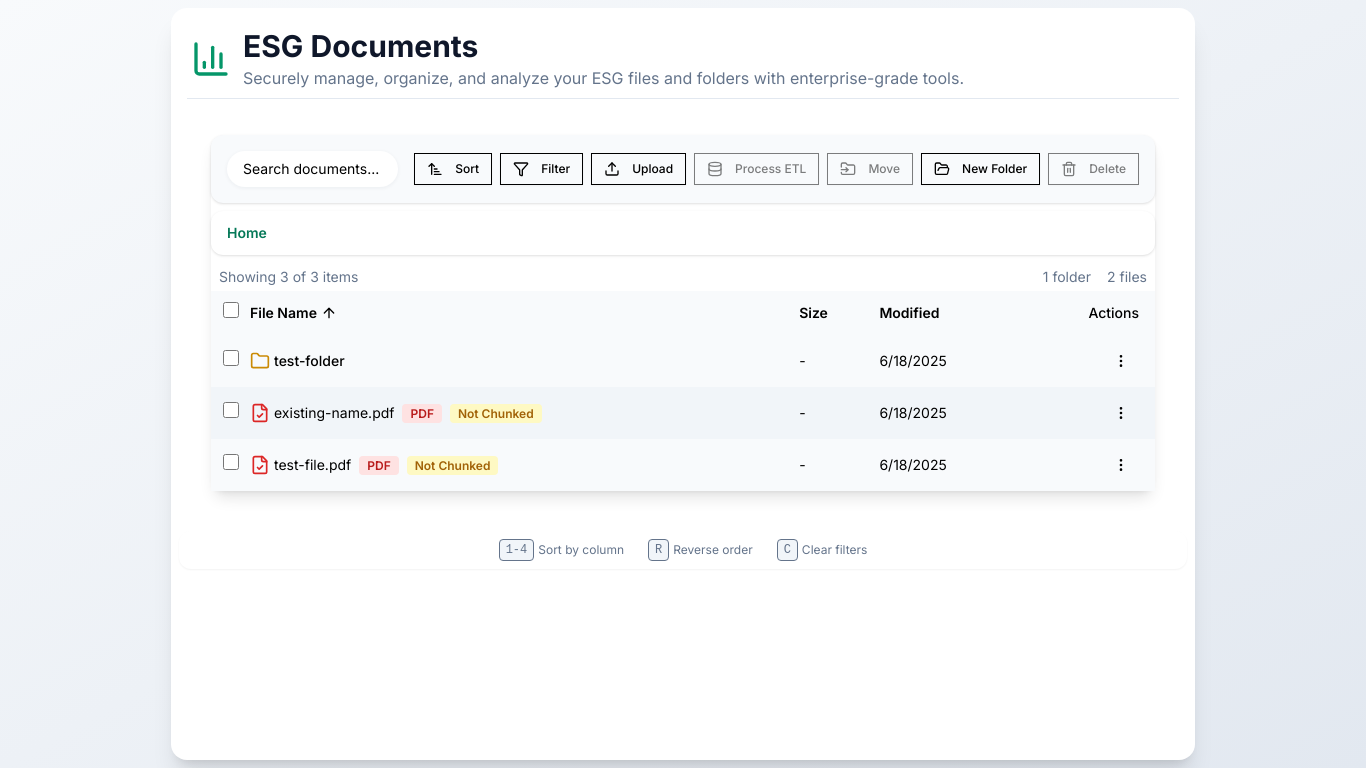
it: Rename File/Folder Functionality › UC-REN-001: renames a file successfully
Check: the text "test-file.pdf" is shown, box top-left (274, 456), bottom-right (351, 472)
Click the button named "more-actions" in the row of "test-file.pdf" at (1121, 464), box top-left (1103, 446), bottom-right (1139, 482)
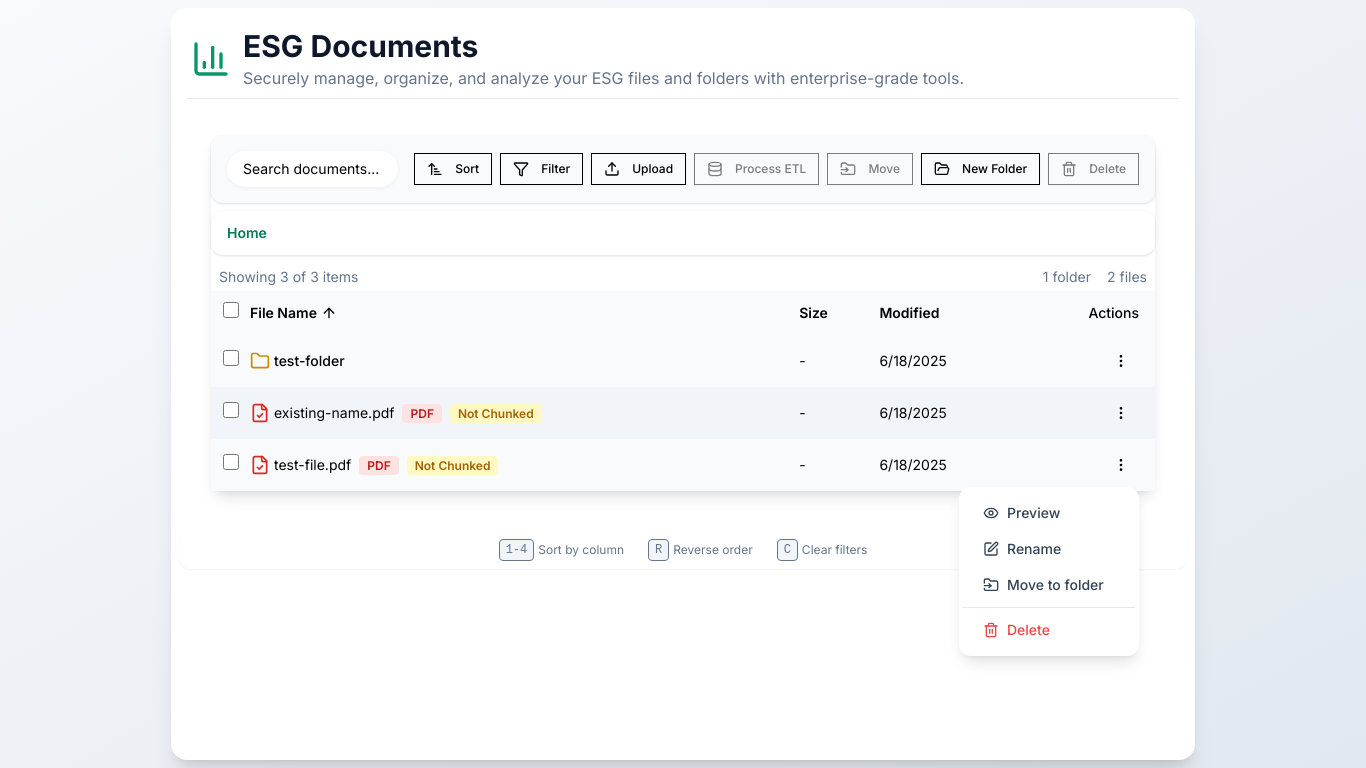
Check: the menu item "Rename" is shown
Check: the menu item "Rename" is enabled
Click the menu item "Rename" at (1022, 548), box top-left (983, 540), bottom-right (1061, 557)
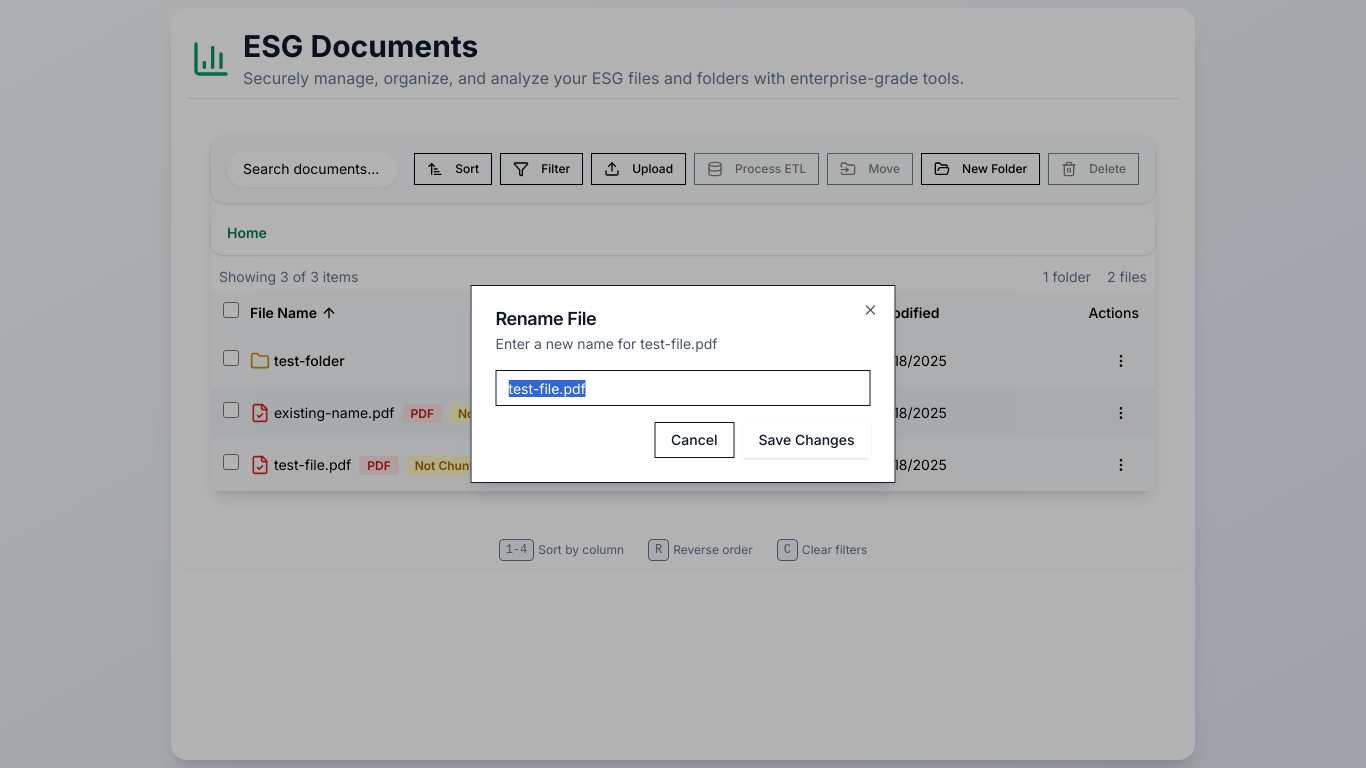
Replace the text in the field showing "test-file.pdf" with "renamed-file.pdf" at (683, 388), box top-left (496, 370), bottom-right (870, 406)
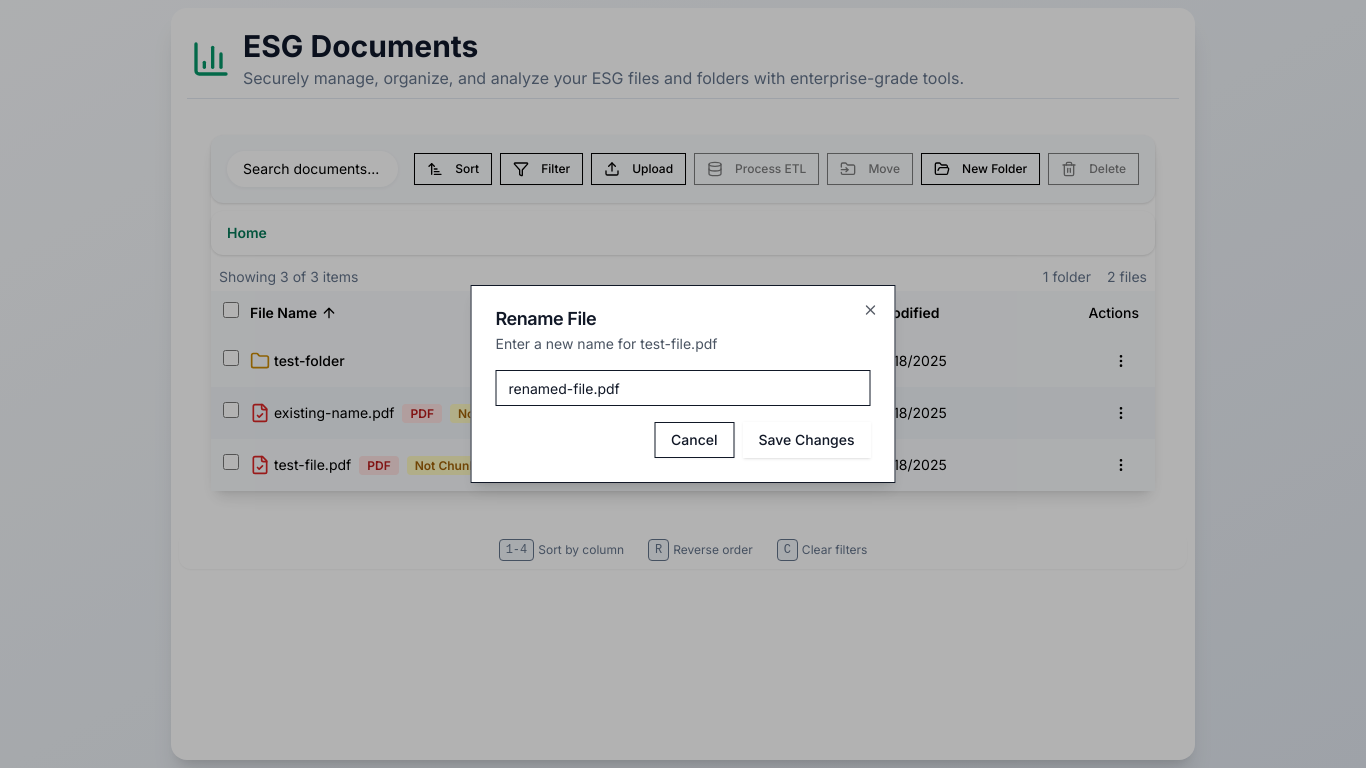
Click the button "Save Changes" at (806, 440), box top-left (742, 422), bottom-right (870, 458)
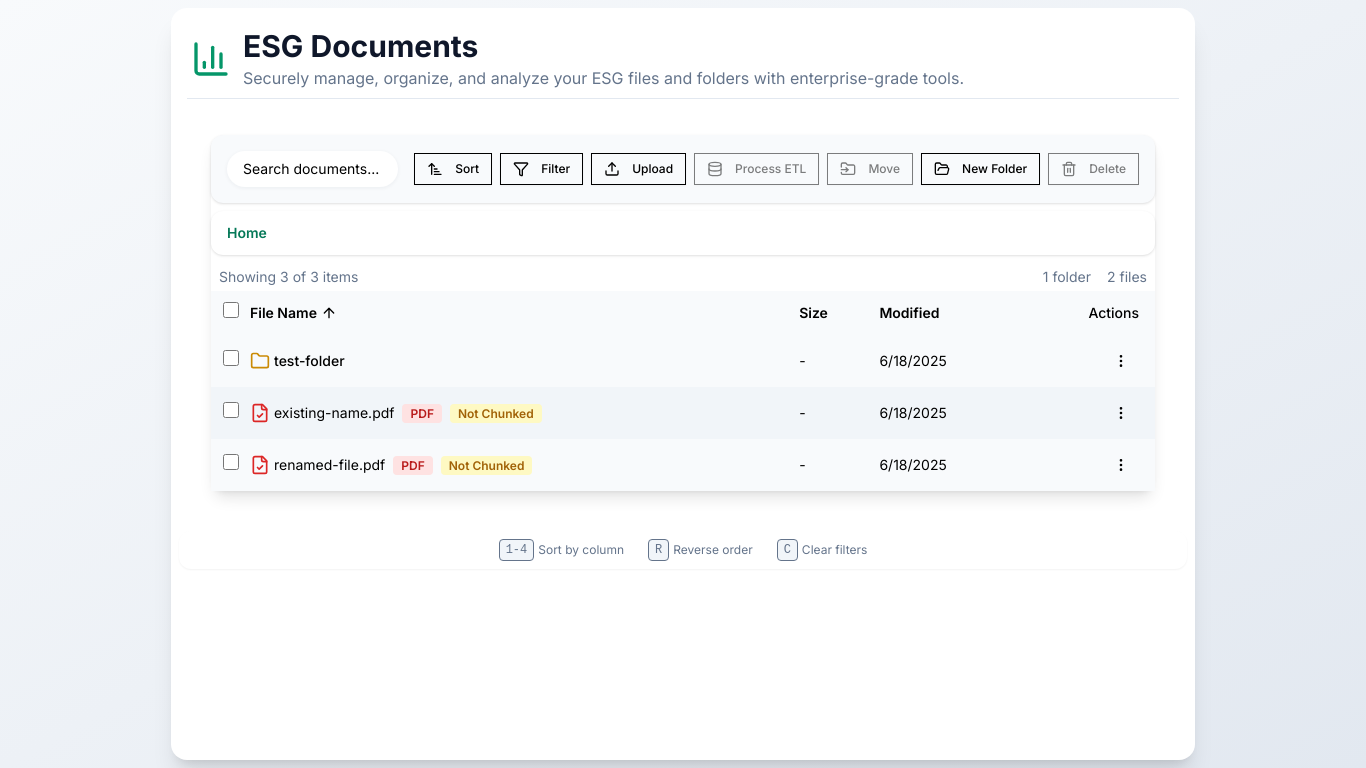
Check: the text "renamed-file.pdf" is shown, box top-left (274, 456), bottom-right (385, 472)
